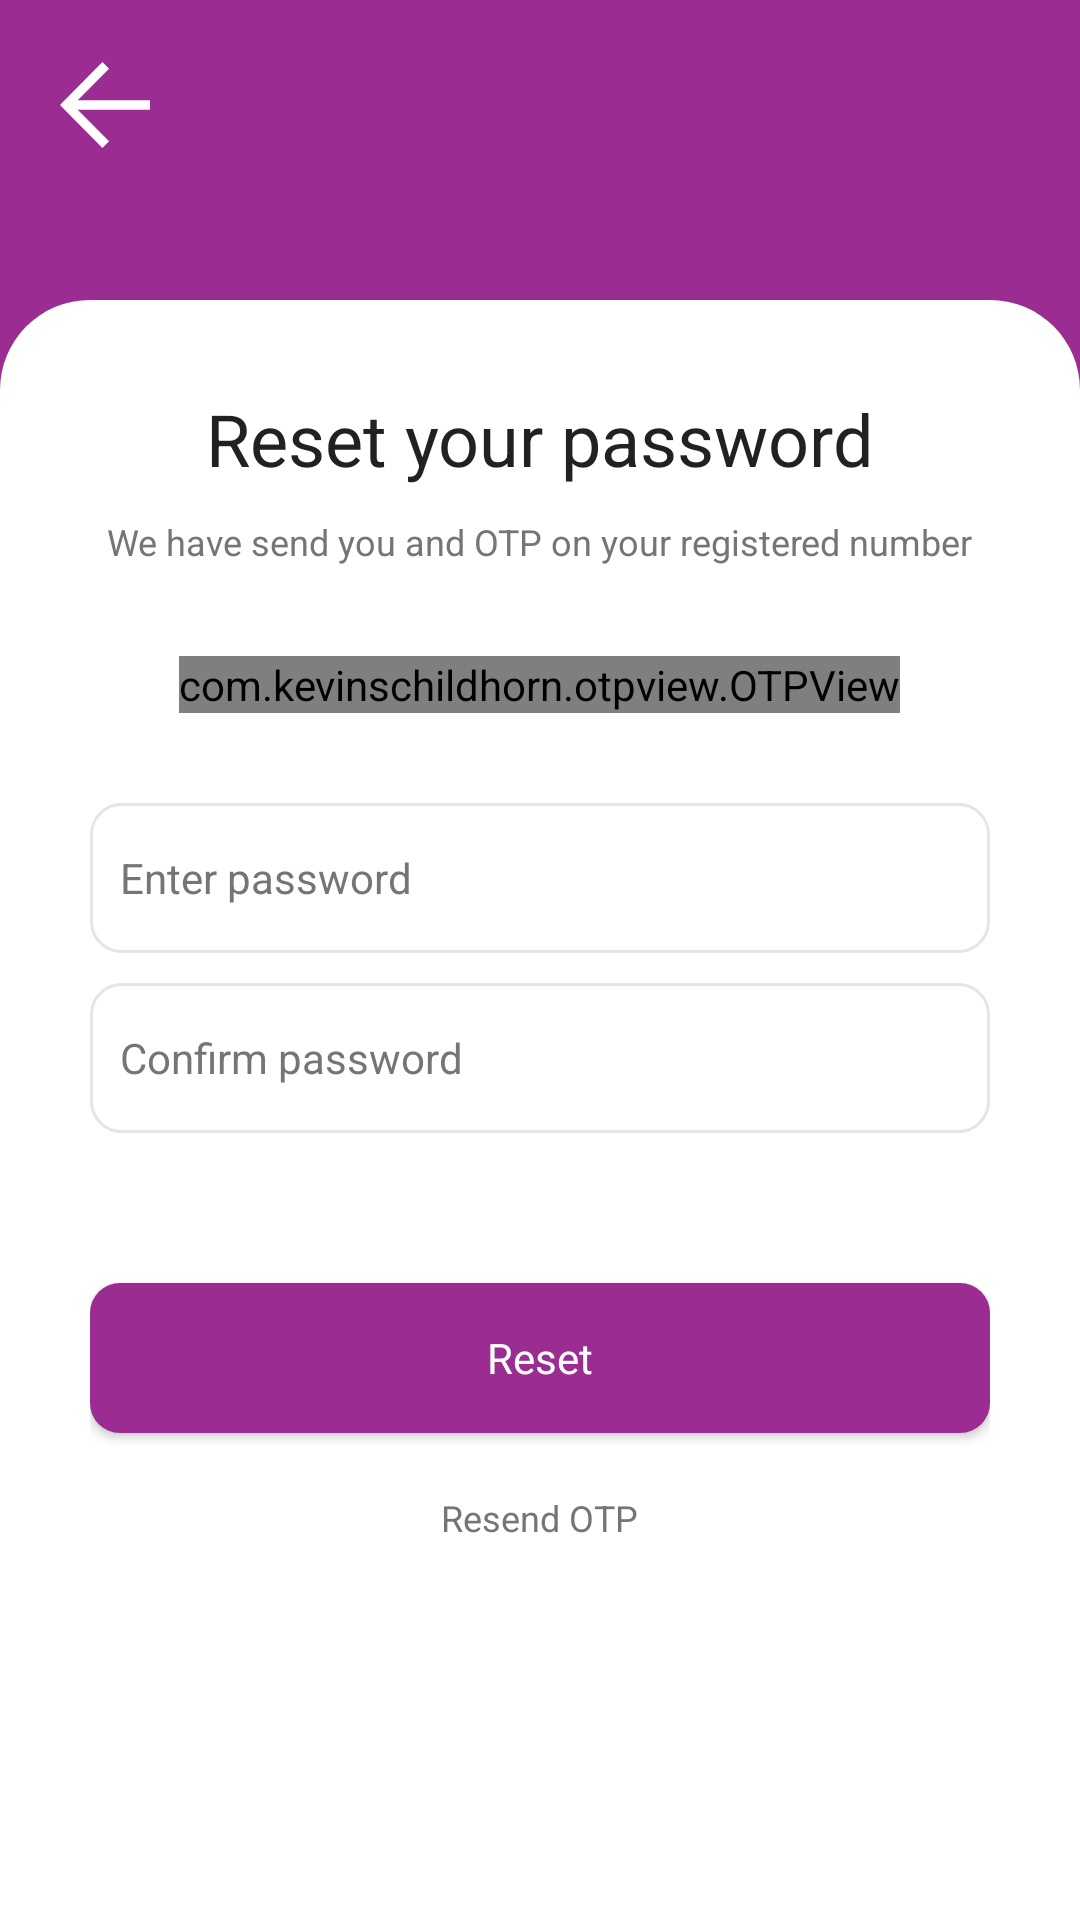

Where to tap for icons on this 1080px x 1920px app screen, as point (x, y):
back: point (105, 105)
